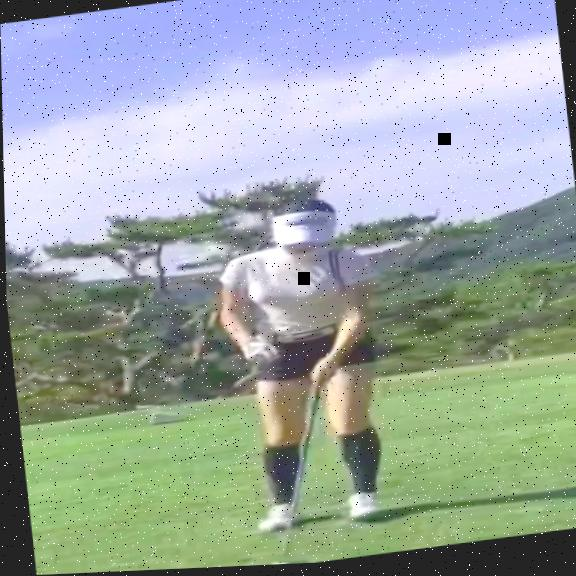ClubHead: (263, 559, 315, 567)
